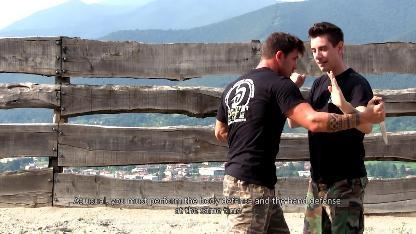knife: (368, 94, 388, 146)
